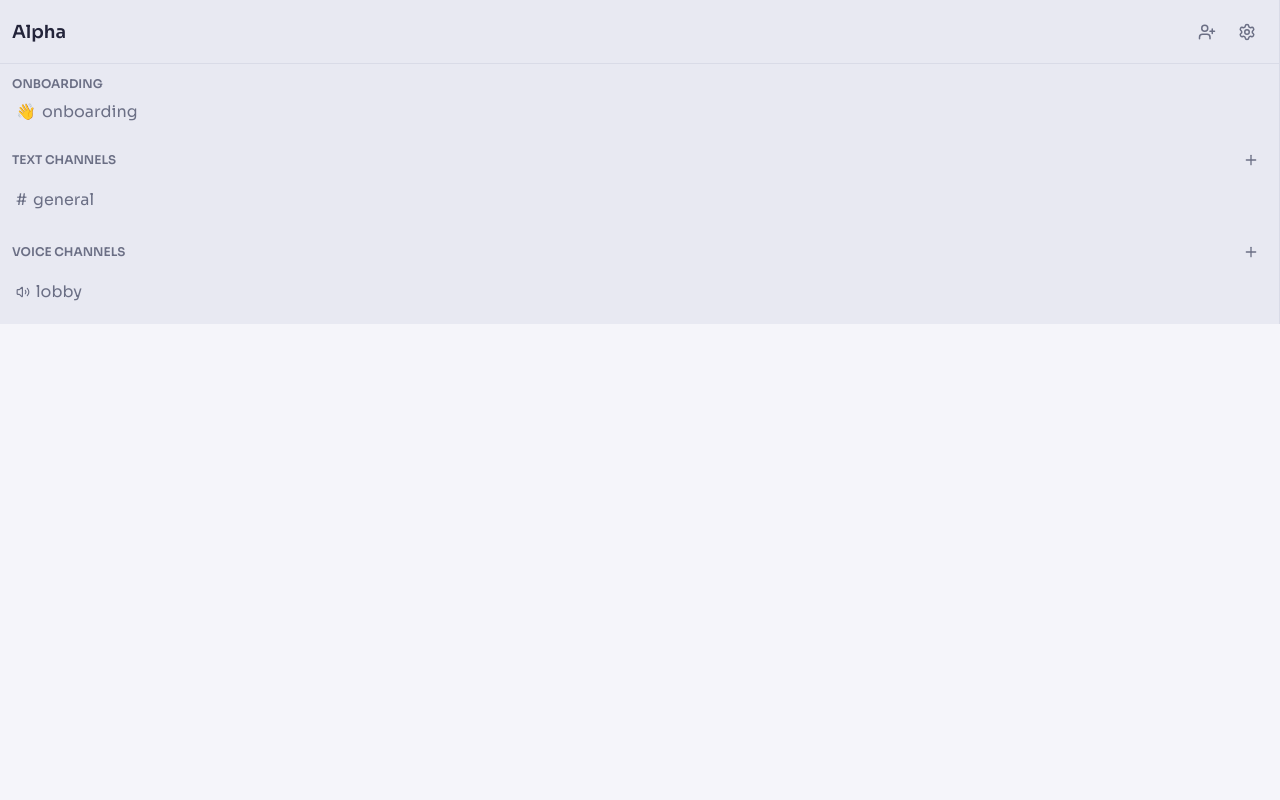
ChannelSidebar › opens a type-specific create form without showing a type selector
Check: the text "Alpha" is shown, box [12,18,66,46]
Click the button named "Create voice channel".
click(1251, 252)  # box [1235,236,1267,268]
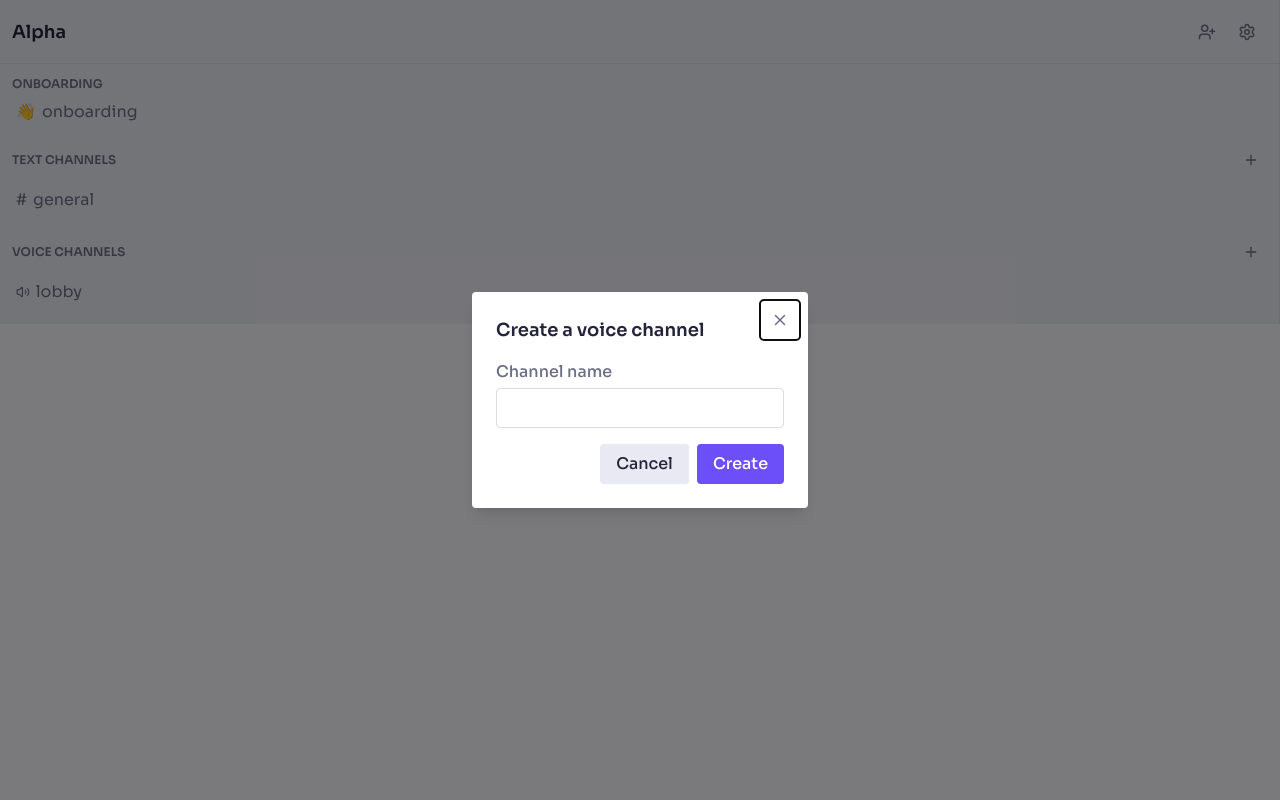
Check: the heading "Create a voice channel" is shown, box [496,319,704,341]
